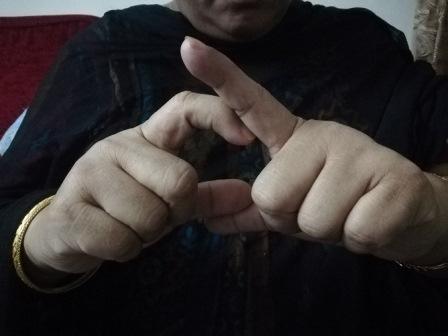kh: (121, 43, 386, 241)
